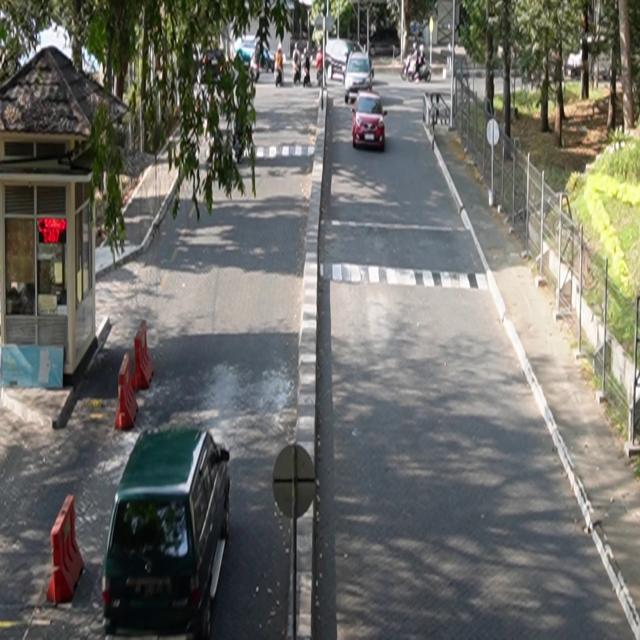car: (352, 91, 387, 152), (344, 52, 375, 104)
